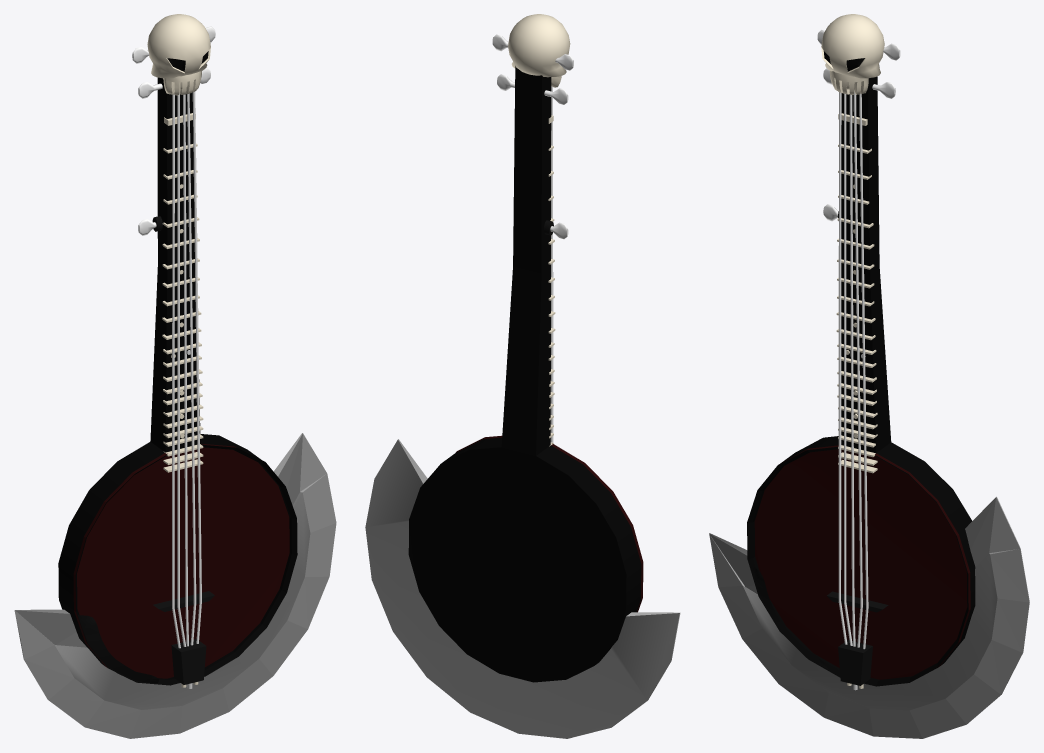
The model's file is banjo.FBX.
3 views of the same model, side by side, from view 1: azimuth 30°, elevation 25°; view 2: azimuth 150°, elevation 25°; view 3: azimuth 330°, elevation 25° (orthographic). The views are drawn at different scales.
Visible parts, largest first — view 1: Cylinder001, Cylinder002, Sphere003, Cylinder006, Cylinder007, Cylinder005, Cylinder003, Cylinder004, Box001, Plane003, Sphere002; view 2: Cylinder001, Cylinder002, Sphere003, Cylinder003; view 3: Cylinder001, Cylinder002, Sphere003, Cylinder003, Cylinder005, Cylinder007, Cylinder006, Cylinder004, Box001, Plane003, Sphere002.
Part boxes in pixels (x1,y1,x2,y2): Cylinder001: [58, 77, 297, 685]; Cylinder002: [14, 433, 336, 738]; Sphere003: [147, 14, 210, 78]; Cylinder006: [187, 93, 196, 645]; Cylinder007: [192, 91, 201, 643]; Cylinder005: [183, 94, 188, 646]; Cylinder003: [172, 94, 180, 648]; Cylinder004: [177, 93, 186, 646]; Box001: [171, 639, 206, 684]; Plane003: [77, 615, 158, 683]; Sphere002: [163, 71, 201, 95]; Cylinder001: [408, 66, 643, 682]; Cylinder002: [365, 439, 680, 738]; Sphere003: [508, 14, 570, 77]; Cylinder003: [550, 86, 553, 442]; Cylinder001: [747, 76, 975, 686]; Cylinder002: [709, 496, 1029, 738]; Sphere003: [821, 14, 884, 78]; Cylinder003: [838, 92, 847, 644]; Cylinder005: [849, 94, 855, 646]; Cylinder007: [859, 93, 868, 649]; Cylinder006: [853, 92, 862, 647]; Cylinder004: [844, 93, 852, 645]; Box001: [838, 640, 872, 685]; Plane003: [750, 564, 828, 669]; Sphere002: [829, 71, 868, 94].
Size of the model in its own units: 55.46 by 120 by 9.56.
